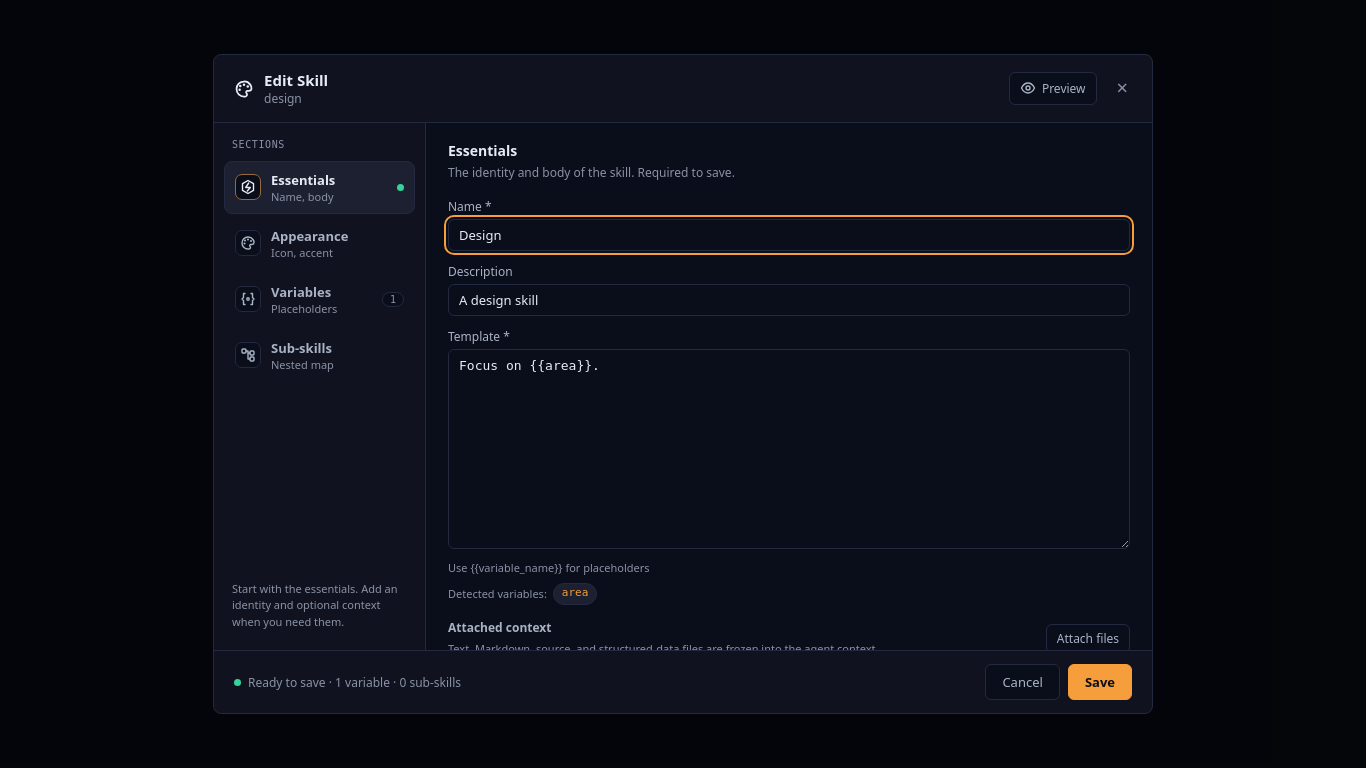
Test: SkillEditor sub-skills › shows a compiled preview with substituted defaults on demand
The width and height of the screenshot is (1366, 768).
Click the button "Preview" at point(1053, 88), box [1009, 72, 1097, 105]
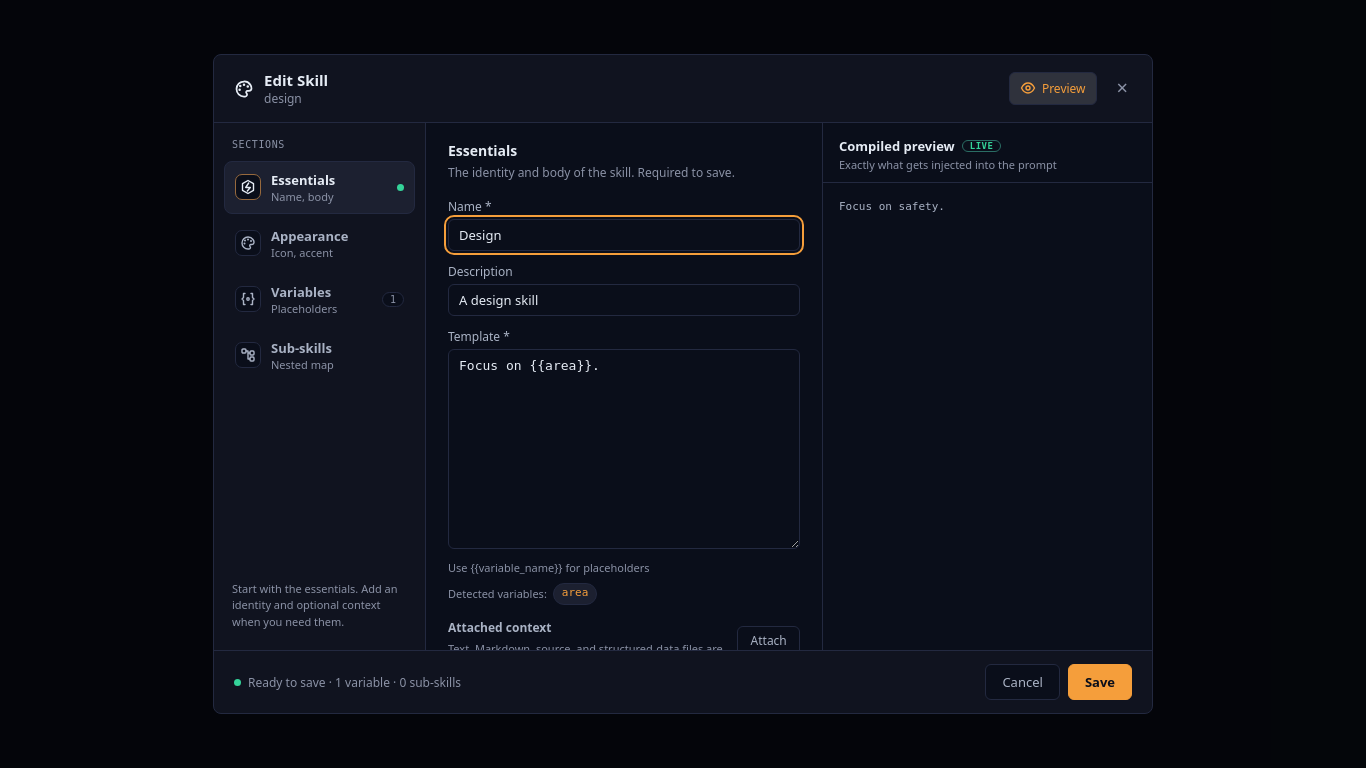
Check: the text "Focus on safety." is shown, box [839, 200, 945, 213]
